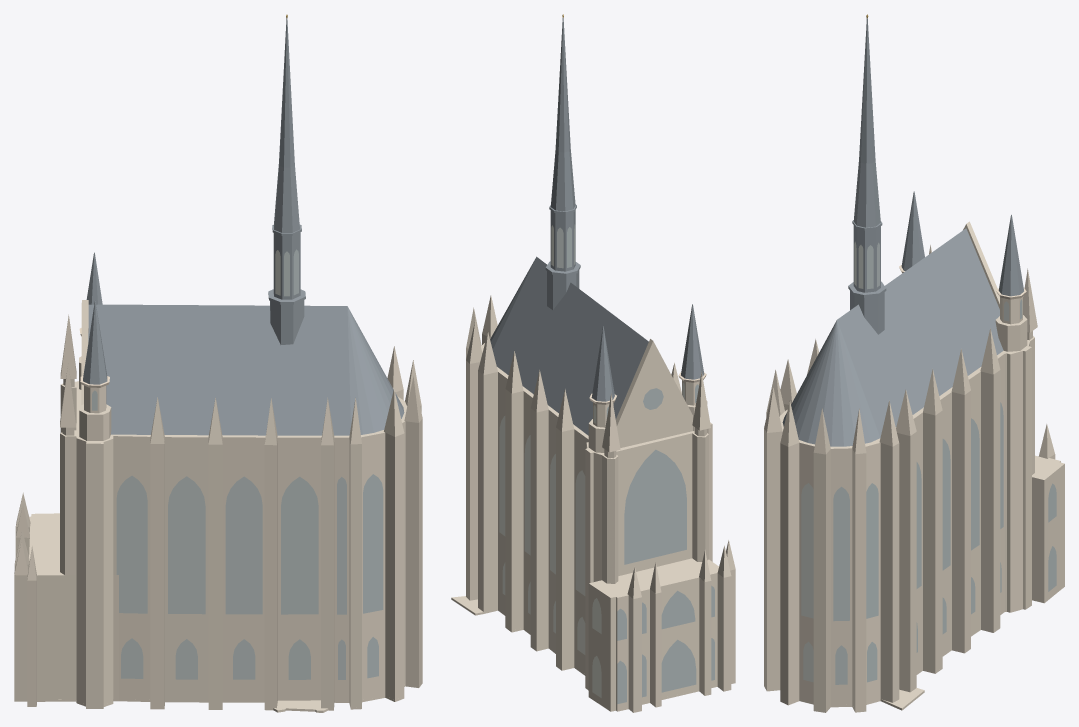
The picture shows the model from 3 angles, left to right: view 1: azimuth 30°, elevation 25°; view 2: azimuth 150°, elevation 25°; view 3: azimuth 270°, elevation 25°; orthographic projection. The views are drawn at different scales.
Parts seen in each view (by area): view 1: stone, roof, window; view 2: stone, roof, window; view 3: stone, roof, window.
Boxes of the visible parts, x1,y1,x2,y2 form: stone: (14,300,422,712); roof: (83,18,404,435); window: (92,249,383,679); stone: (451,295,735,712); roof: (490,18,704,435); window: (499,224,714,703); stone: (764,221,1064,712); roof: (782,18,1023,446); window: (801,241,1056,684).
Size of the model in its own units: 40.37 by 75 by 31.65.
